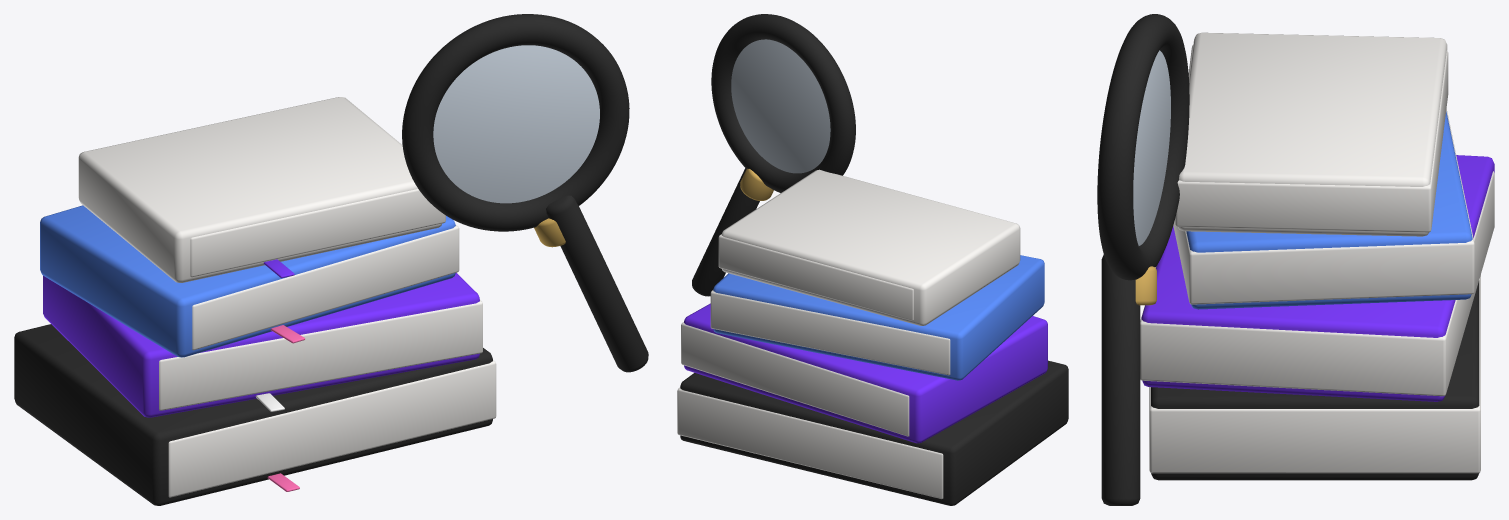
File: codes.glb
The picture shows the model from 3 angles, left to right: view 1: azimuth 30°, elevation 25°; view 2: azimuth 150°, elevation 25°; view 3: azimuth 270°, elevation 25°; orthographic projection. The views are drawn at different scales.
Parts seen in each view (by area): view 1: box.009, box, cyl, box.001, tor, box.006, box.004, box.003, box.007, box.010, cyl.001; view 2: box.009, box, box.001, box.003, box.006, cyl, box.004, tor, box.007, box.010, cyl.001, cyl.002; view 3: box.009, box.001, box.004, box.007, tor, box.003, box.010, box, cyl.001, box.006, cyl, cyl.002.
Boxes of the visible parts, x1,y1,x2,y2 form: box.009: [78, 97, 441, 282]; box: [14, 324, 492, 505]; cyl: [433, 45, 599, 203]; box.001: [168, 360, 496, 497]; tor: [402, 14, 629, 231]; box.006: [40, 205, 455, 357]; box.004: [159, 300, 482, 410]; box.003: [43, 272, 479, 417]; box.007: [192, 225, 459, 350]; box.010: [190, 189, 445, 277]; cyl.001: [546, 195, 648, 372]; box.009: [721, 169, 1020, 325]; box: [680, 360, 1068, 505]; box.001: [677, 387, 943, 498]; box.003: [684, 303, 1047, 443]; box.006: [713, 255, 1044, 380]; cyl: [731, 39, 830, 173]; box.004: [681, 322, 909, 436]; tor: [711, 14, 855, 192]; box.007: [710, 290, 950, 375]; box.010: [718, 234, 913, 320]; cyl.001: [692, 168, 759, 296]; cyl.002: [740, 168, 773, 200]; box.009: [1178, 32, 1447, 236]; box.001: [1149, 275, 1480, 473]; box.004: [1140, 171, 1494, 396]; box.007: [1173, 109, 1474, 304]; tor: [1097, 14, 1189, 280]; box.003: [1141, 155, 1494, 401]; box.010: [1175, 45, 1448, 232]; box: [1151, 280, 1479, 480]; cyl.001: [1101, 254, 1140, 505]; box.006: [1186, 111, 1472, 309]; cyl: [1133, 50, 1170, 245]; cyl.002: [1135, 266, 1156, 305].
Size of the model in its own units: 4.22 by 3.45 by 2.66.
